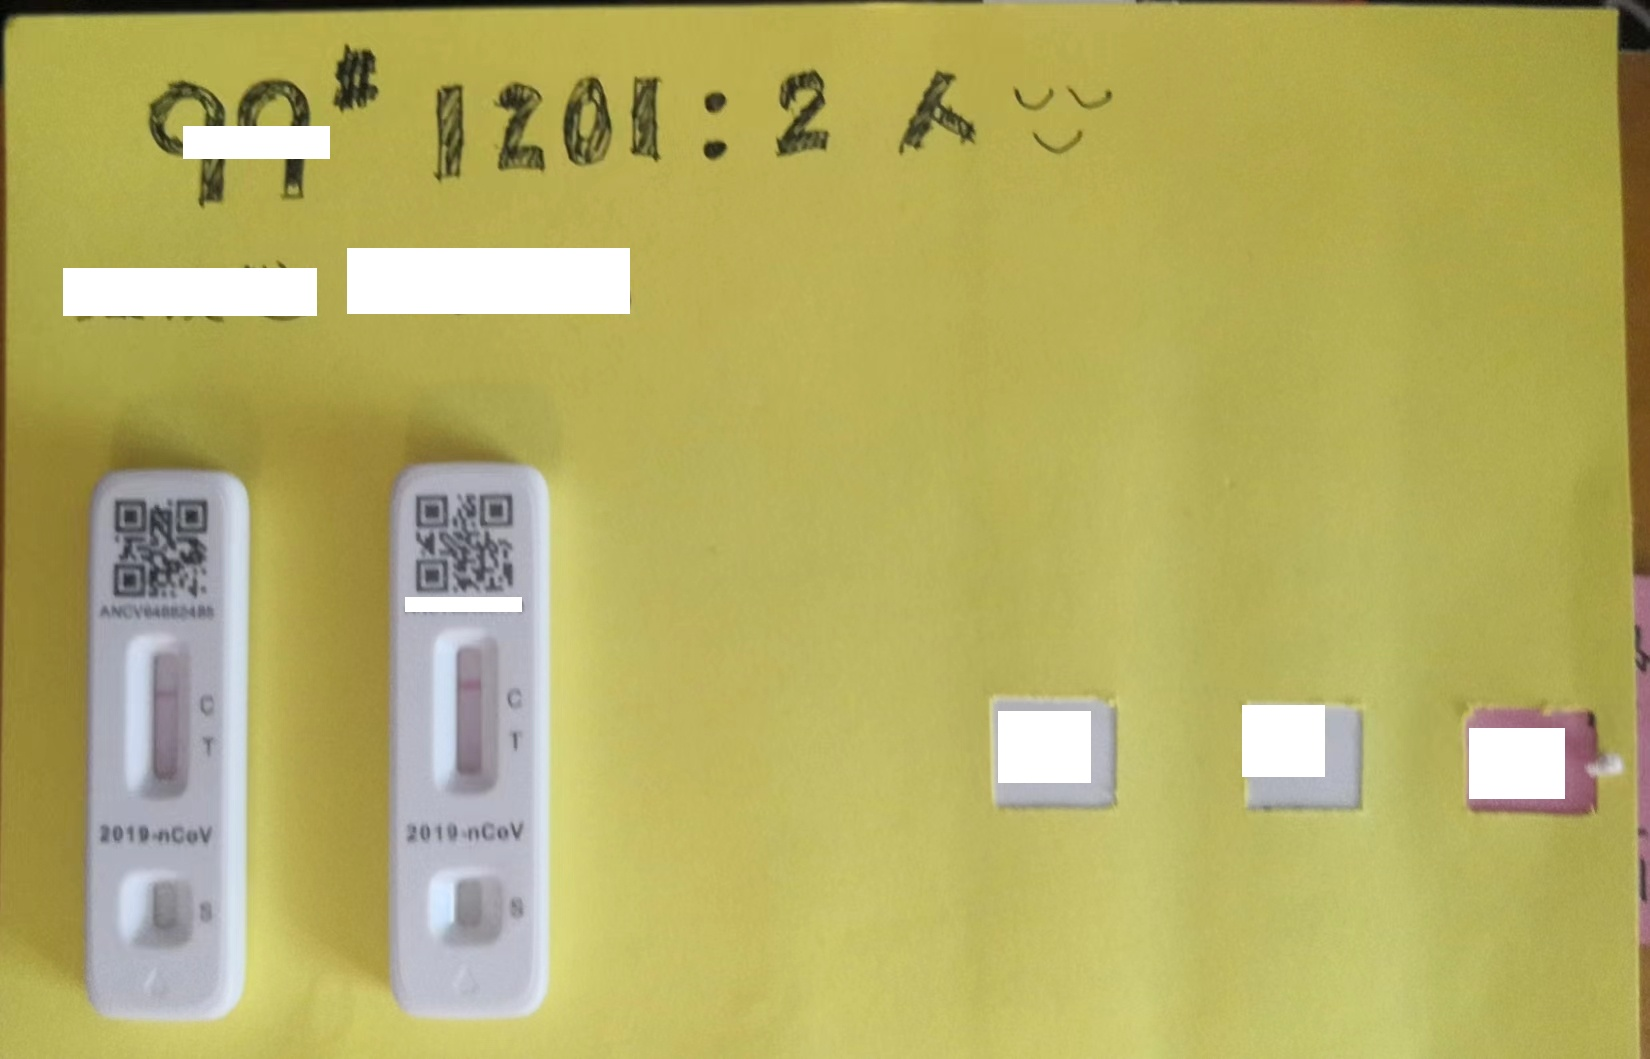negative: (435, 631, 498, 793), (131, 633, 190, 799)
